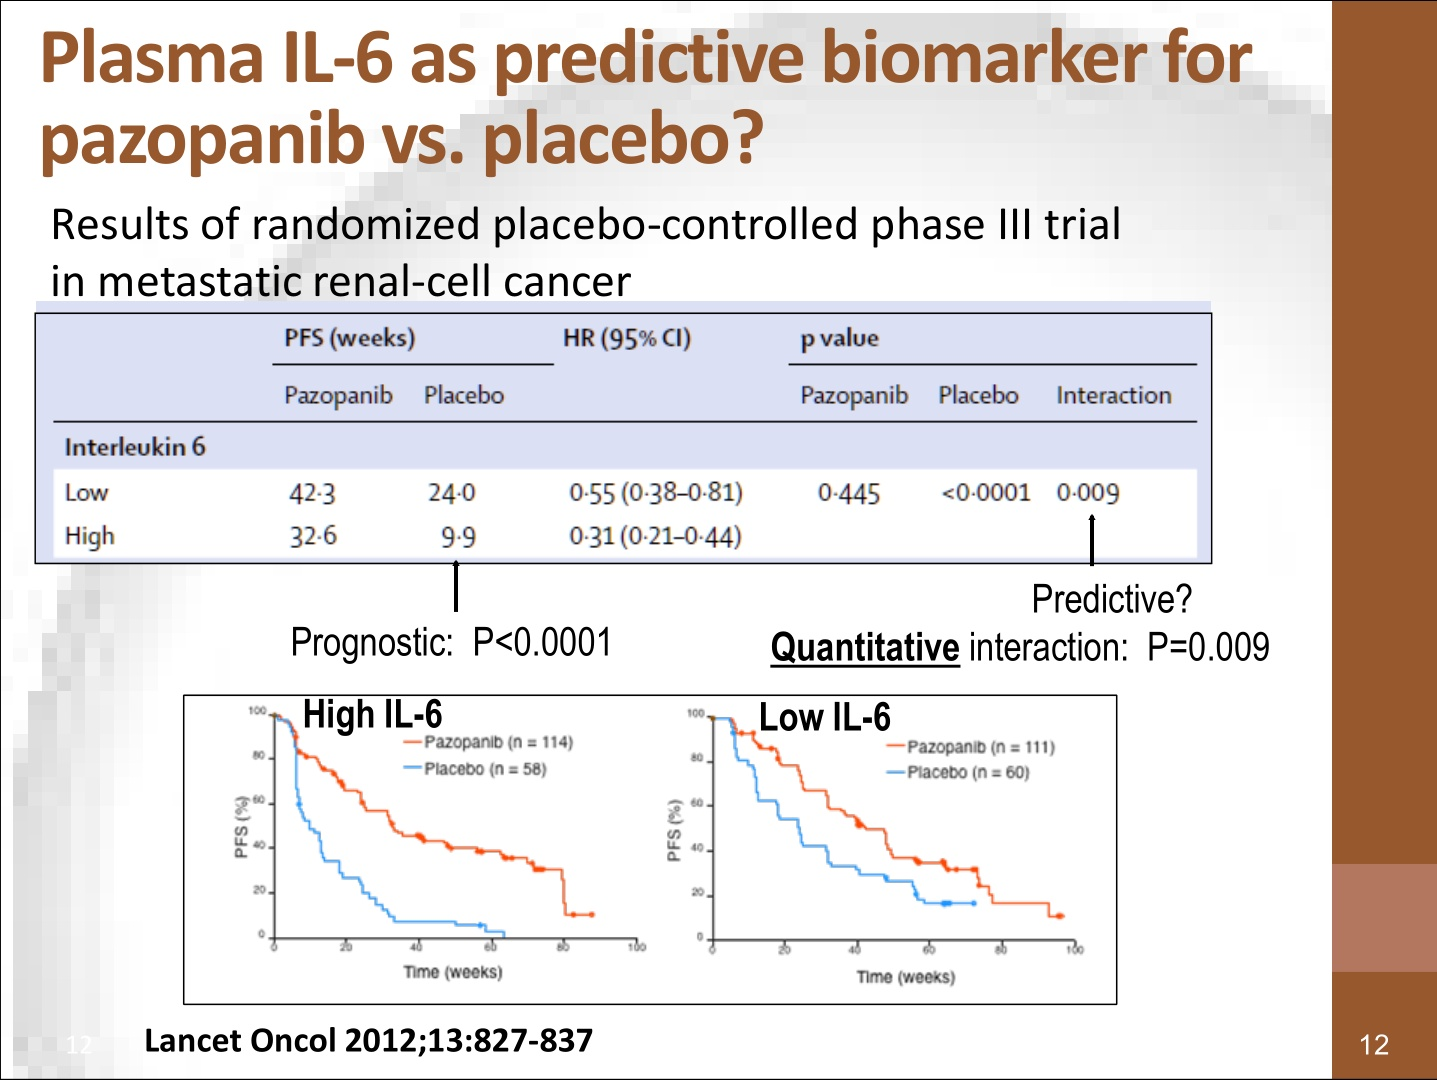partial_lined_merged_cells: (33, 310, 1214, 566)
